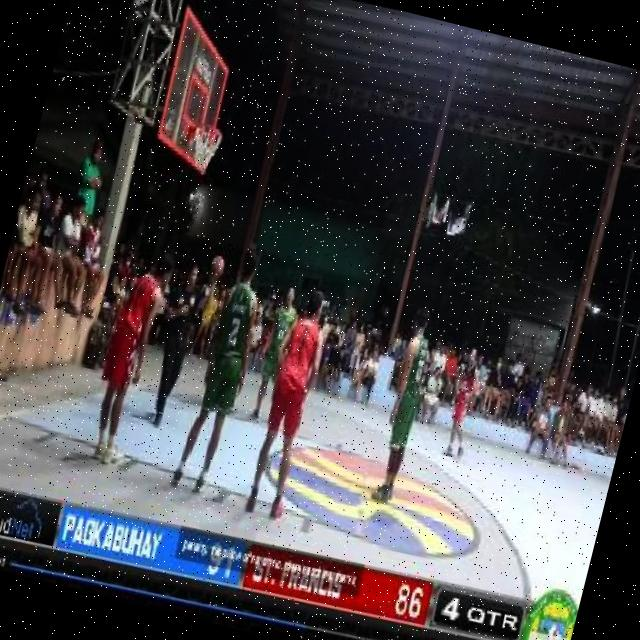ball: (204, 250, 228, 287)
